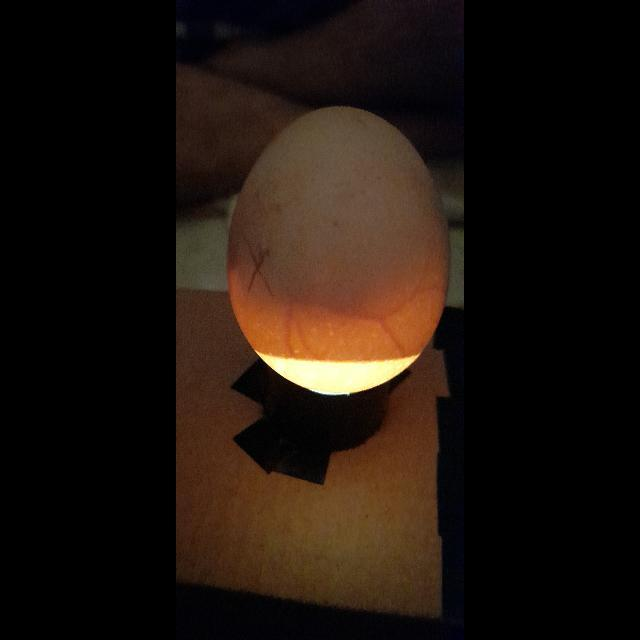Fertile: (227, 102, 453, 398)
